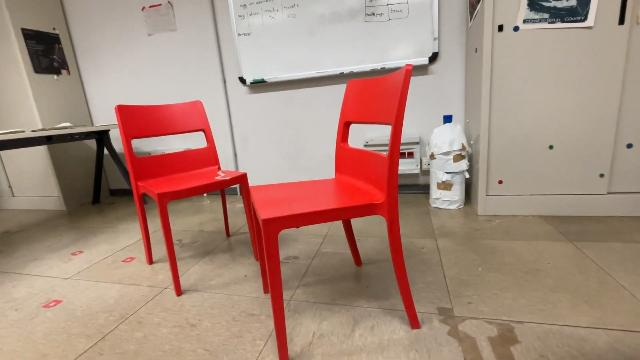Chair: (246, 60, 430, 360), (110, 99, 264, 299)
